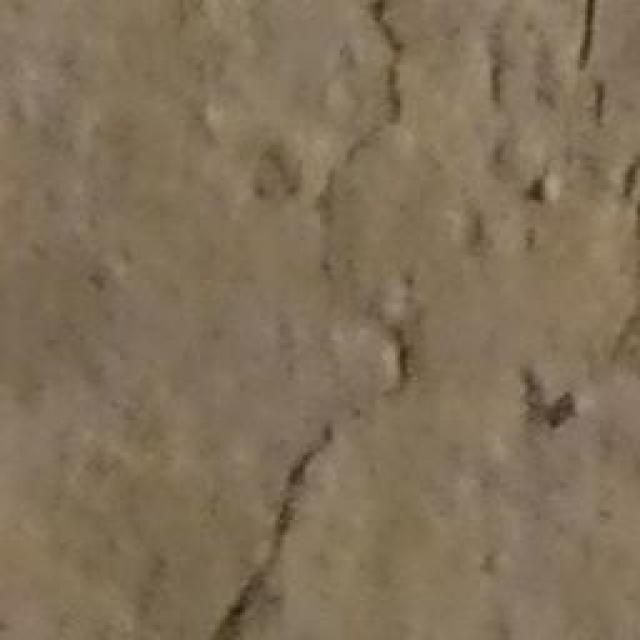Network: (182, 0, 632, 640)
